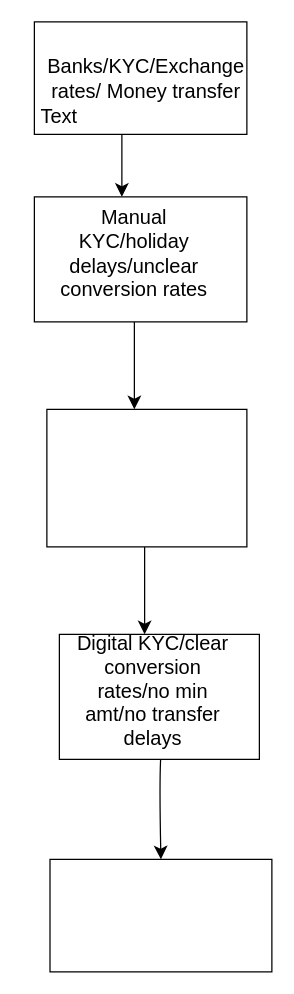
This 294x994 diagram has some shape labels left out. The centre of each missing label's shape, as x and y in pixels:
"KYC Error/Duplication/more wait times/Incorrect rates" goes at [160,915].
"waiting times/processing delays/min-max amount conversions" goes at [146,477].
